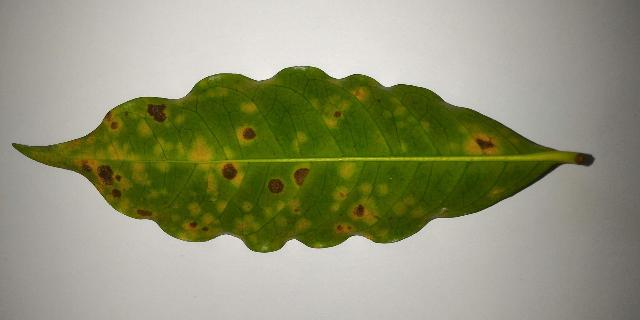miner: (70, 139, 173, 221), (176, 139, 243, 185), (32, 134, 97, 161), (446, 125, 502, 156), (349, 183, 378, 231), (176, 214, 221, 241), (321, 98, 350, 129), (333, 222, 375, 241), (232, 216, 259, 241), (102, 107, 122, 135), (291, 164, 311, 189), (147, 102, 169, 124), (238, 78, 273, 91), (332, 188, 348, 211), (264, 202, 285, 218), (340, 162, 357, 179), (238, 126, 256, 142), (390, 98, 406, 116), (268, 178, 285, 194), (294, 133, 309, 151), (395, 199, 411, 214), (352, 87, 368, 101), (175, 94, 195, 105), (242, 104, 258, 115), (207, 175, 217, 192), (288, 199, 299, 214), (298, 218, 310, 231), (139, 122, 150, 136), (418, 122, 429, 136), (189, 203, 201, 214), (378, 184, 386, 197), (226, 147, 234, 160), (217, 202, 226, 211), (285, 232, 295, 240), (413, 209, 424, 216), (329, 79, 340, 86), (243, 202, 251, 211), (491, 189, 501, 196), (313, 98, 318, 110), (273, 242, 280, 250), (379, 232, 386, 237), (401, 144, 406, 151), (408, 117, 416, 121), (250, 236, 256, 241), (152, 191, 157, 196), (281, 219, 285, 225), (173, 216, 178, 220), (512, 138, 517, 142), (104, 135, 108, 140), (178, 116, 182, 121), (132, 110, 136, 115), (222, 88, 226, 93), (161, 227, 165, 231), (420, 222, 424, 226), (209, 92, 213, 96), (314, 246, 321, 248), (438, 214, 445, 216), (212, 198, 216, 201), (373, 79, 376, 81), (444, 208, 445, 209), (175, 206, 176, 207)
